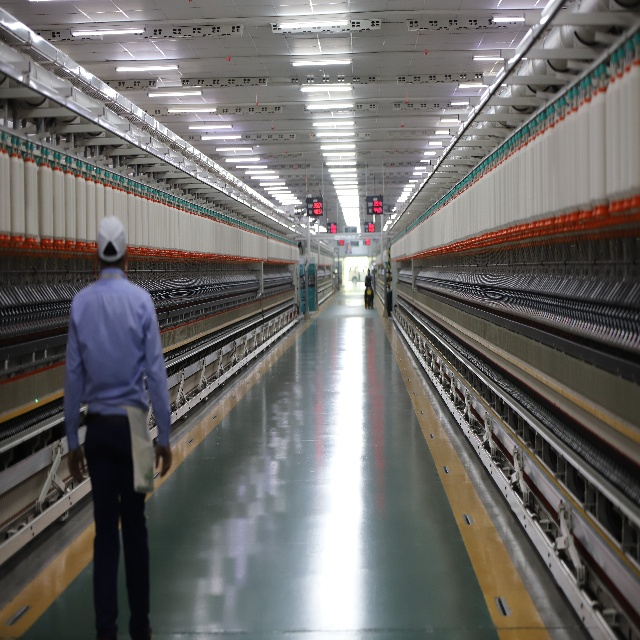Sin_guantes: (69, 442, 86, 486), (155, 441, 171, 478)
